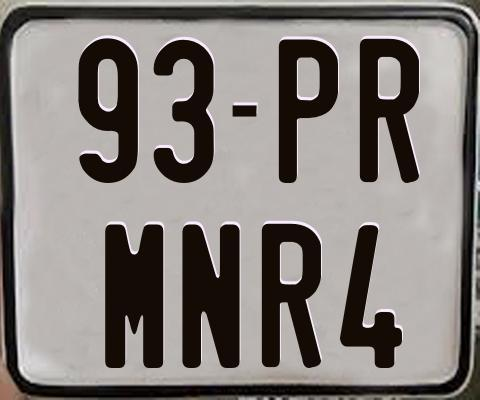3: (152, 38, 213, 185)
4: (337, 224, 404, 367)
9: (76, 37, 142, 186)
M: (103, 223, 162, 367)
N: (182, 224, 242, 371)
P: (277, 39, 337, 187)
R: (262, 223, 326, 370), (357, 37, 420, 181)
